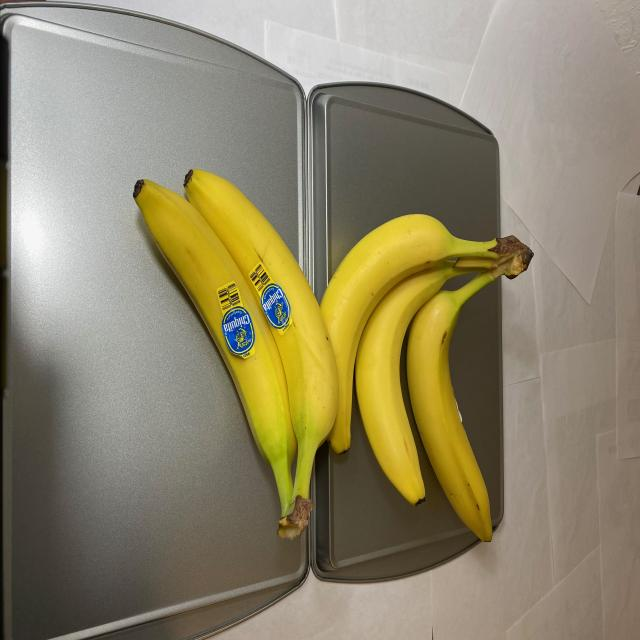banana: (129, 163, 338, 552), (325, 214, 535, 549)
